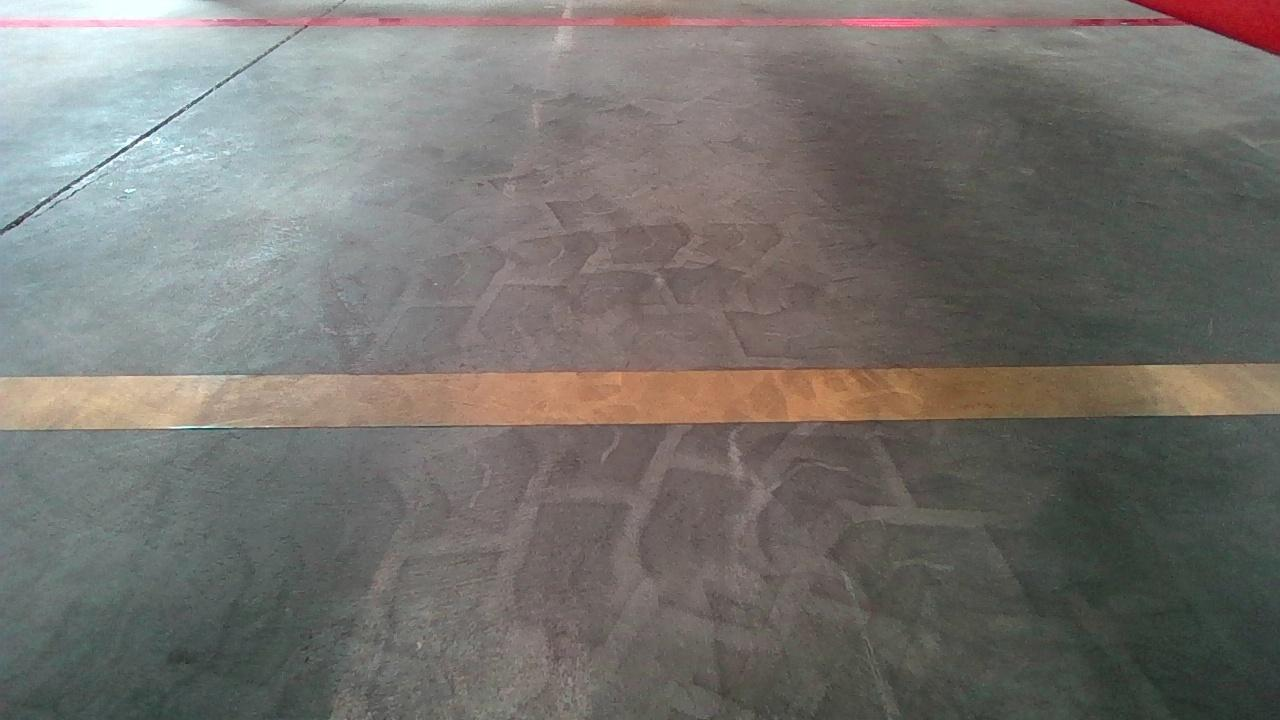yellow_line: (5, 360, 1278, 428)
